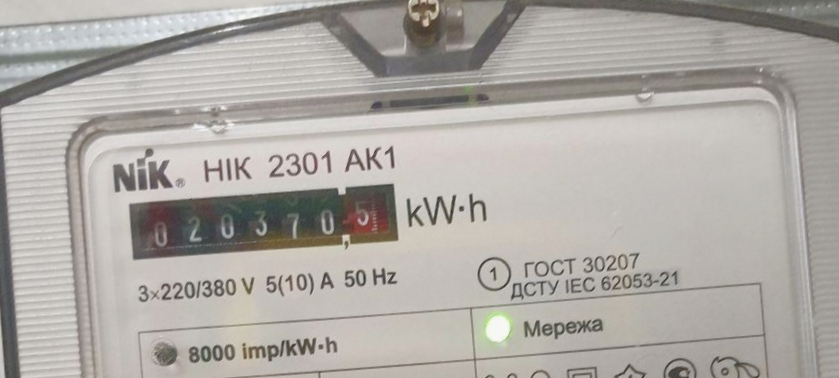0: (316, 206, 337, 238), (150, 218, 169, 248), (217, 211, 235, 240)
2: (183, 213, 204, 245)
3: (250, 207, 269, 238)
5: (352, 197, 372, 229)
7: (284, 210, 301, 241)
screen: (120, 175, 407, 272)
